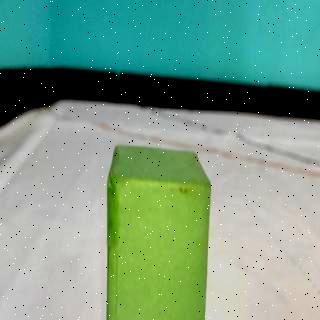greenbox: (105, 145, 213, 320)
